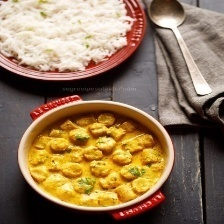sabzi: (27, 108, 167, 209)
